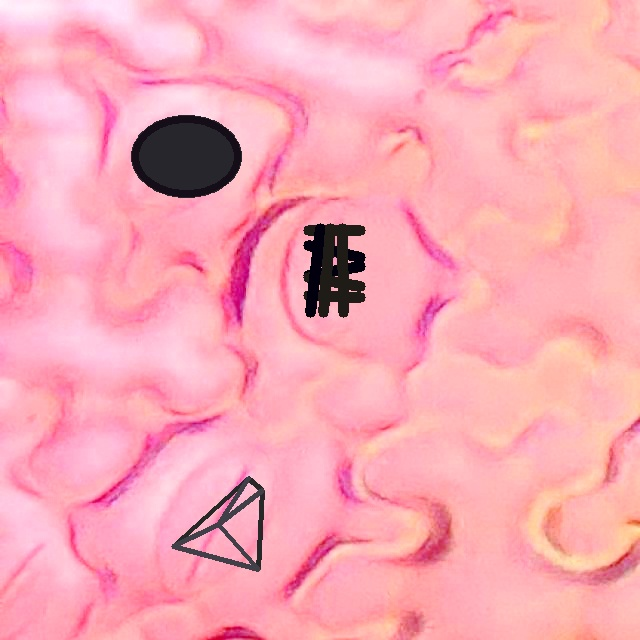close: (131, 116, 241, 197), (171, 476, 264, 571)
open: (303, 224, 364, 317)
